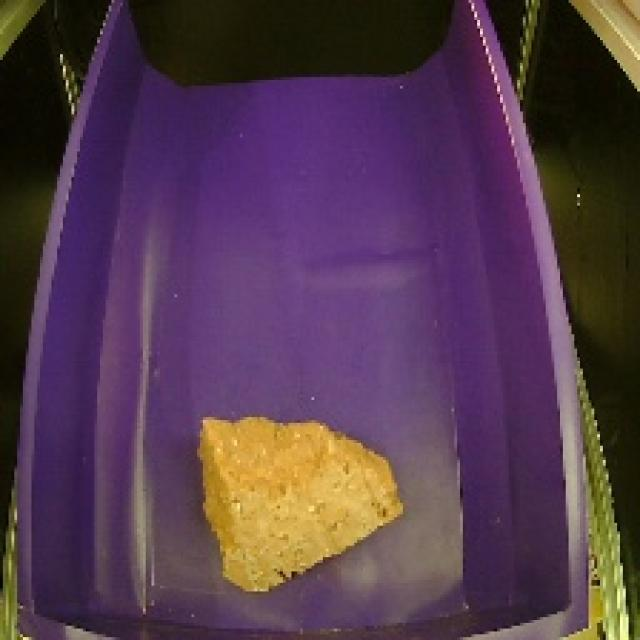brick: (177, 402, 417, 598)
